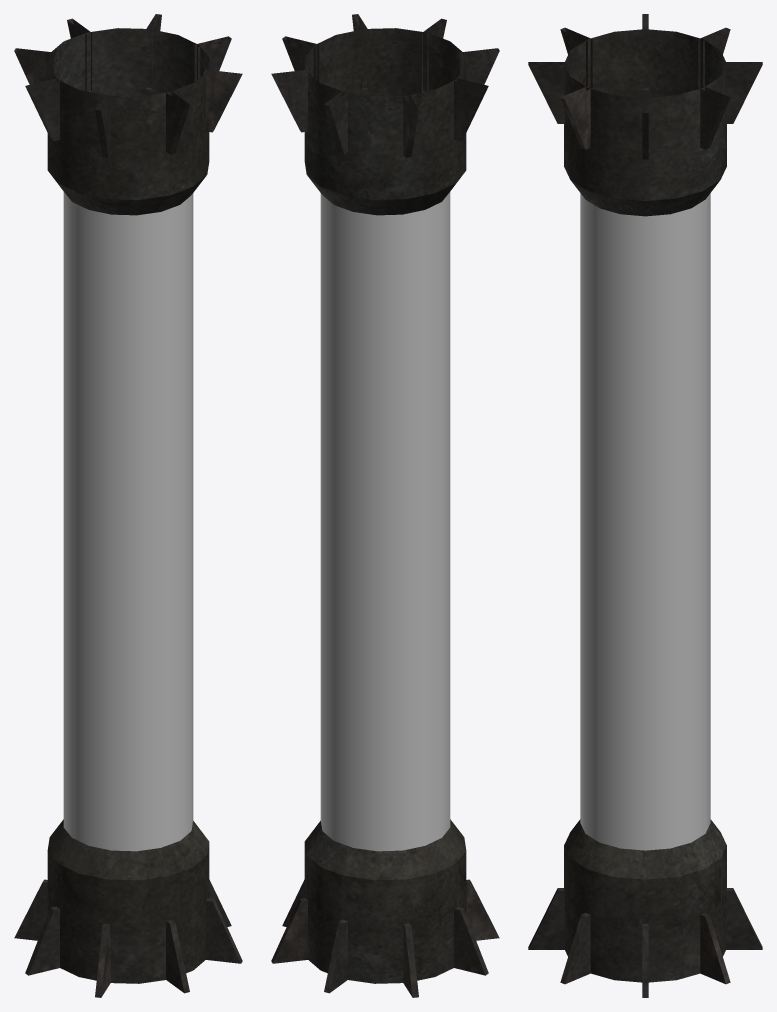
File: pillar_11.obj
3 renders of one model, left to right at view 1: azimuth 30°, elevation 25°; view 2: azimuth 150°, elevation 25°; view 3: azimuth 270°, elevation 25°, orthographic.
Visible parts, largest first — view 1: pillar_11; view 2: pillar_11; view 3: pillar_11.
Part boxes in pixels (bbox=[...]): pillar_11: bbox=[14, 14, 242, 997]; pillar_11: bbox=[271, 14, 499, 997]; pillar_11: bbox=[528, 14, 762, 997].
Bounding box in the file's own units: 0.72 × 3 × 0.72.
